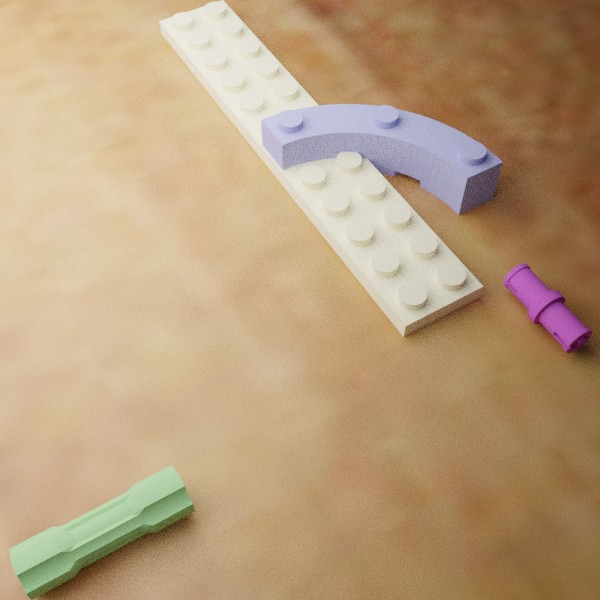lego: (159, 0, 483, 336), (261, 104, 502, 214), (9, 464, 194, 600), (503, 263, 592, 353)
